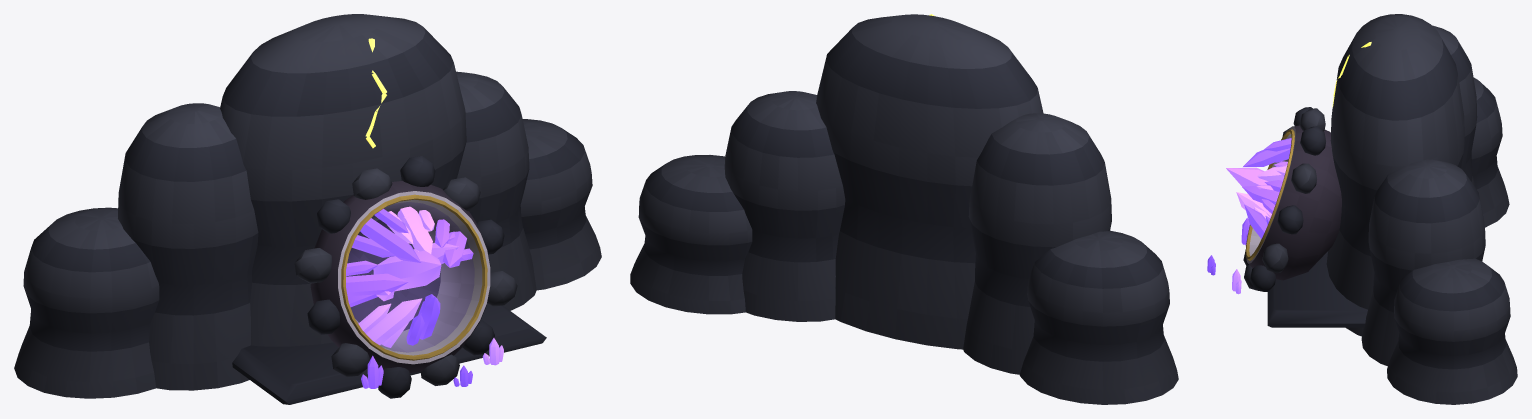
File: geode.glb
3 renders of one model, left to right at view 1: azimuth 30°, elevation 25°; view 2: azimuth 150°, elevation 25°; view 3: azimuth 270°, elevation 25°, orthographic. The views are drawn at different scales.
Visible parts, largest first — view 1: shell, crystal3, core, crystal5, crystal4, crystal2, crystal1, crystal6; view 2: shell; view 3: shell, crystal3, crystal1, core, crystal6, crystal5, crystal2.
Part boxes in pixels (box(x1,y1,x2,y2)): shell: box(14, 14, 601, 404); crystal3: box(352, 208, 421, 262); core: box(373, 242, 458, 301); crystal5: box(358, 298, 422, 347); crystal4: box(346, 260, 408, 307); crystal2: box(387, 206, 434, 253); crystal1: box(435, 219, 473, 267); crystal6: box(406, 294, 440, 345); shell: box(630, 14, 1178, 404); shell: box(1243, 14, 1517, 404); crystal3: box(1243, 138, 1291, 166); crystal1: box(1242, 180, 1282, 213); core: box(1226, 167, 1273, 190); crystal6: box(1244, 204, 1270, 238); crystal5: box(1236, 192, 1271, 219); crystal2: box(1257, 165, 1287, 181).
Size of the model in its own units: 65.88 by 34 by 37.
